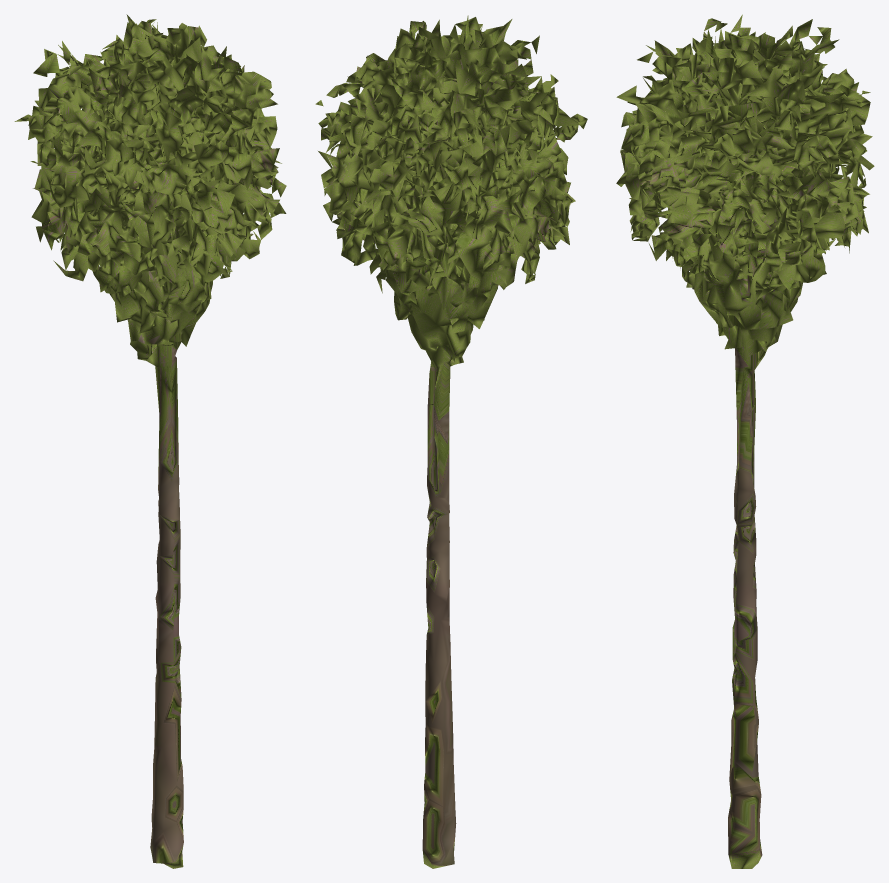
Rendered from lagoon_a_lod1.glb.
3 views of the same model, side by side, from view 1: azimuth 30°, elevation 25°; view 2: azimuth 150°, elevation 25°; view 3: azimuth 270°, elevation 25° (orthographic).
Size of the model in its own units: 0.5516 by 1.98 by 0.5577.
1 material, 1 textured.
